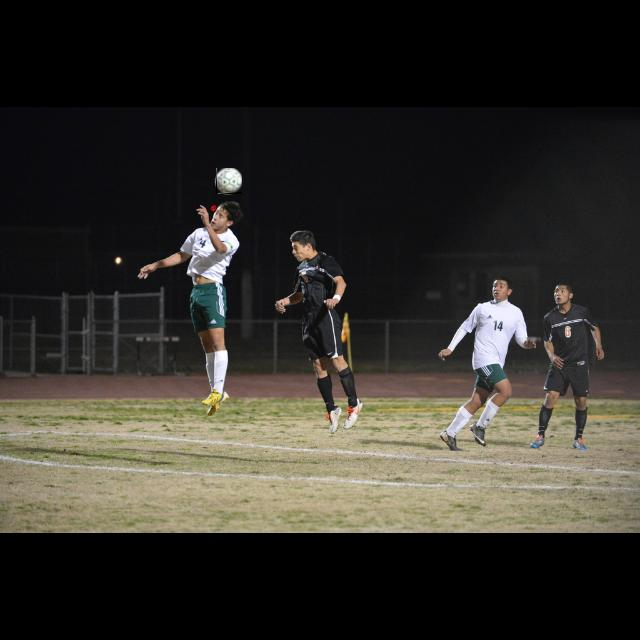Football: (216, 168, 242, 194)
